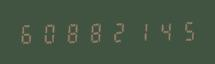eight: (61, 20, 82, 44), (83, 20, 104, 44)
five: (171, 18, 192, 42)
four: (149, 19, 170, 42)
one: (127, 19, 148, 43)
six: (17, 21, 38, 45)
two: (105, 20, 126, 43)
zero: (39, 21, 60, 44)
